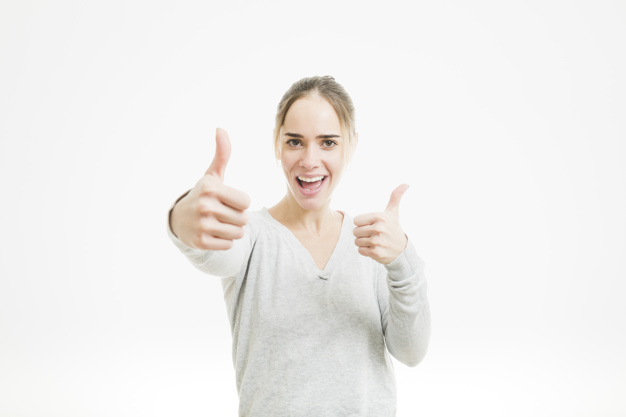thumbsup: (191, 127, 251, 250), (352, 183, 410, 257)
